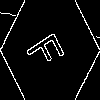F: (25, 25, 72, 74)
